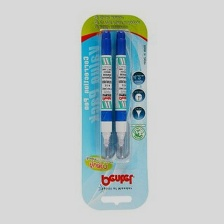correction_fluid: (111, 29, 132, 163), (97, 28, 116, 162)
